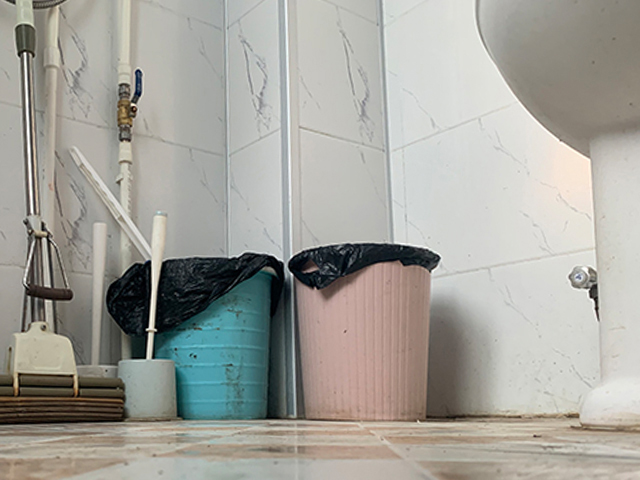closestool: (472, 1, 640, 434)
trashcan: (288, 242, 441, 423), (151, 252, 284, 419)
